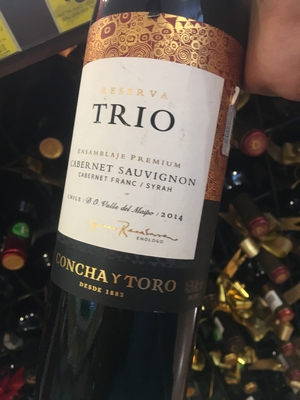trio cabernet sauvignon: (42, 3, 248, 375)
